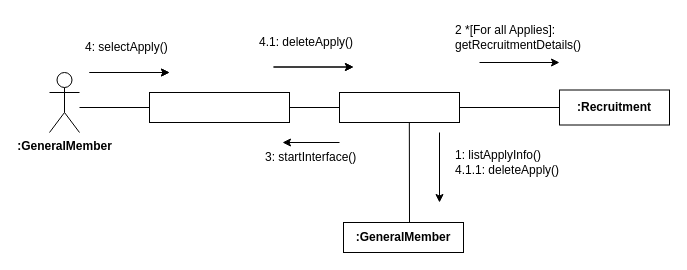
Some shapes in this 687 by 270 pixel diagram are drawn without their labels. Each missing label, with the centre of its shape:
:DeleteApplyInfo: pixel 399 107
:DeleteApplyInfoUI: pixel 219 107
